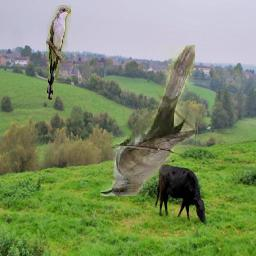Cuckoo: (101, 46, 196, 197), (47, 6, 72, 101)
